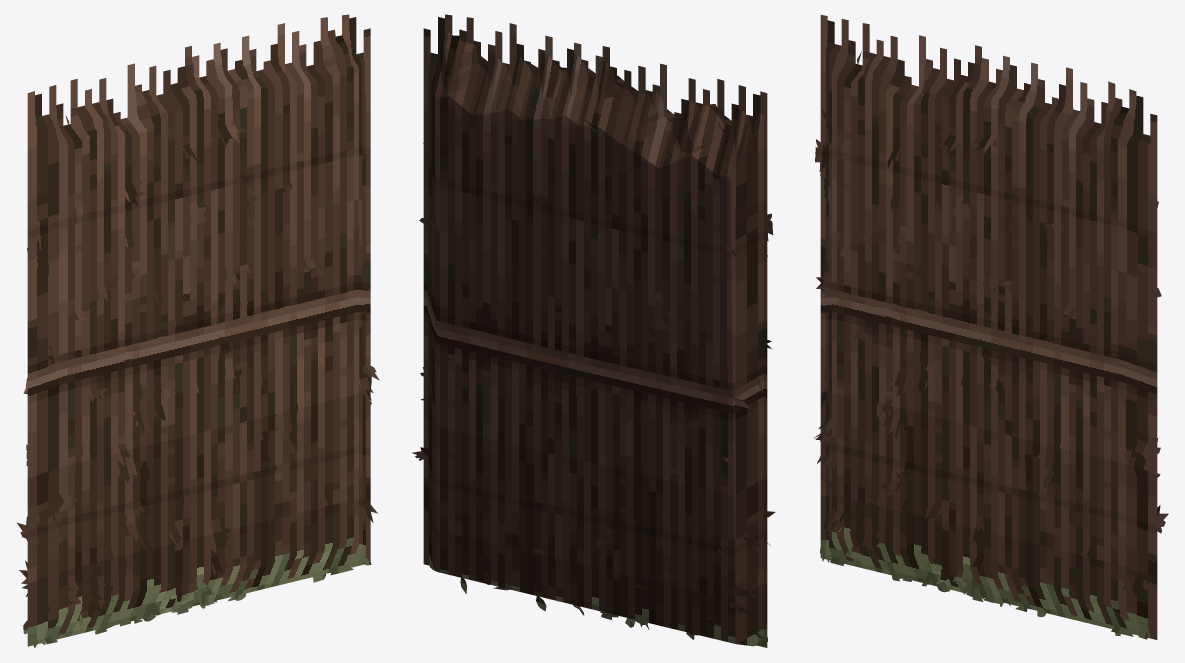
The model's file is fence_501_cut_v15457_hd.glb.
3 renders of one model, left to right at view 1: azimuth 30°, elevation 25°; view 2: azimuth 150°, elevation 25°; view 3: azimuth 330°, elevation 25°, orthographic. The views are drawn at different scales.
Parts seen in each view (by area): view 1: fence_501_cut_lod0; view 2: fence_501_cut_lod0; view 3: fence_501_cut_lod0.
Part boxes in pixels (x1,y1,x2,y2): fence_501_cut_lod0: (17, 14, 379, 647); fence_501_cut_lod0: (412, 14, 775, 647); fence_501_cut_lod0: (813, 15, 1168, 639).
Bounding box in the file's own units: 1.04 × 1.6 × 0.2241.
Materials: 1 (1 with a texture image).
